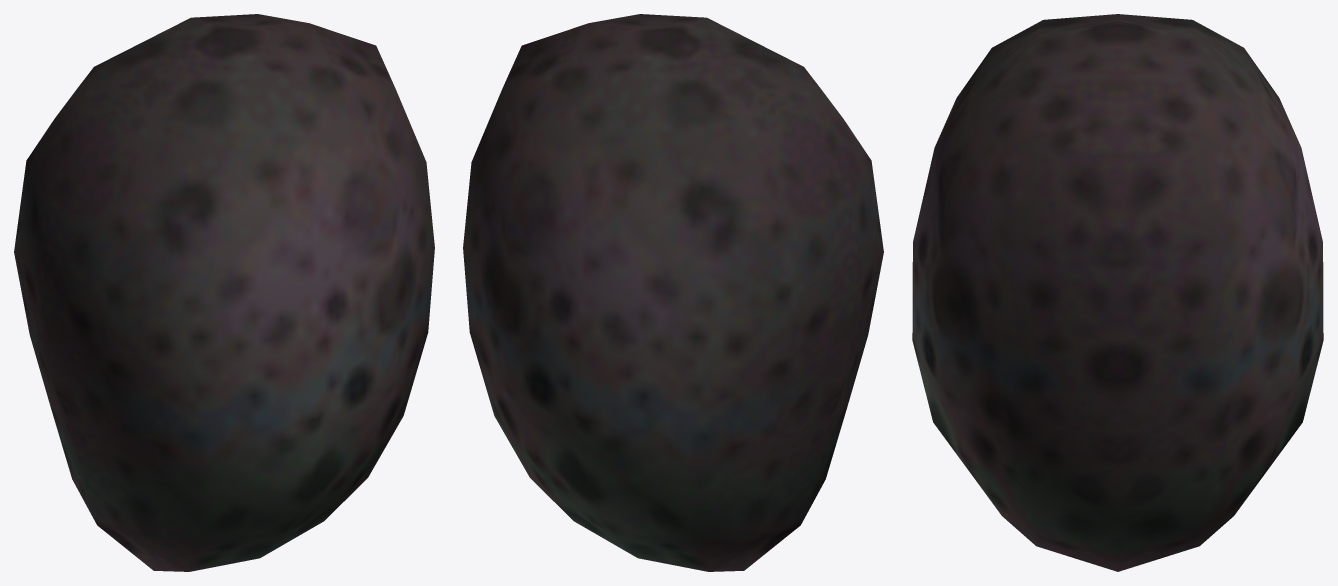
Rendered from aerolite02.FBX.
3 renders of one model, left to right at view 1: azimuth 30°, elevation 25°; view 2: azimuth 150°, elevation 25°; view 3: azimuth 270°, elevation 25°, orthographic. The views are drawn at different scales.
Visible parts, largest first — view 1: aerolite02; view 2: aerolite02; view 3: aerolite02.
Boxes of the visible parts, box(x1,y1,x2,y2) form: aerolite02: box(14, 14, 434, 571); aerolite02: box(463, 14, 883, 571); aerolite02: box(912, 14, 1323, 571).
Bounding box in the file's own units: 923 × 1244 × 852.
